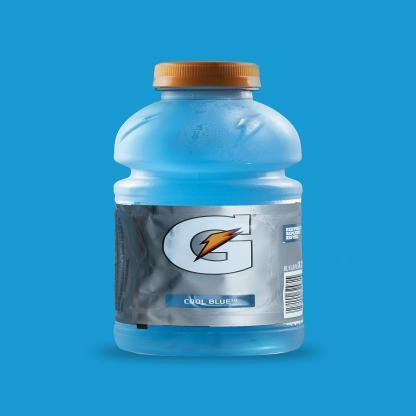bottle: (100, 54, 322, 366)
